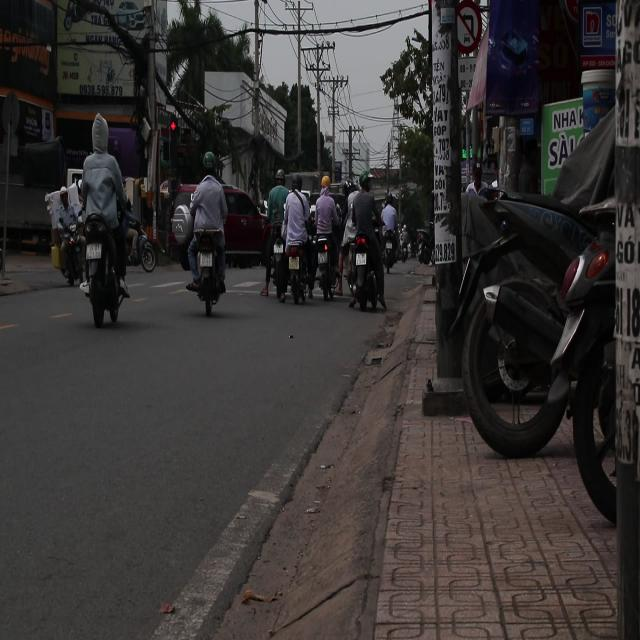car: (158, 168, 274, 272)
motorbike: (79, 193, 135, 344), (276, 223, 320, 320), (311, 206, 350, 312), (56, 188, 90, 296), (344, 212, 375, 326), (191, 230, 229, 317), (258, 208, 288, 315)
